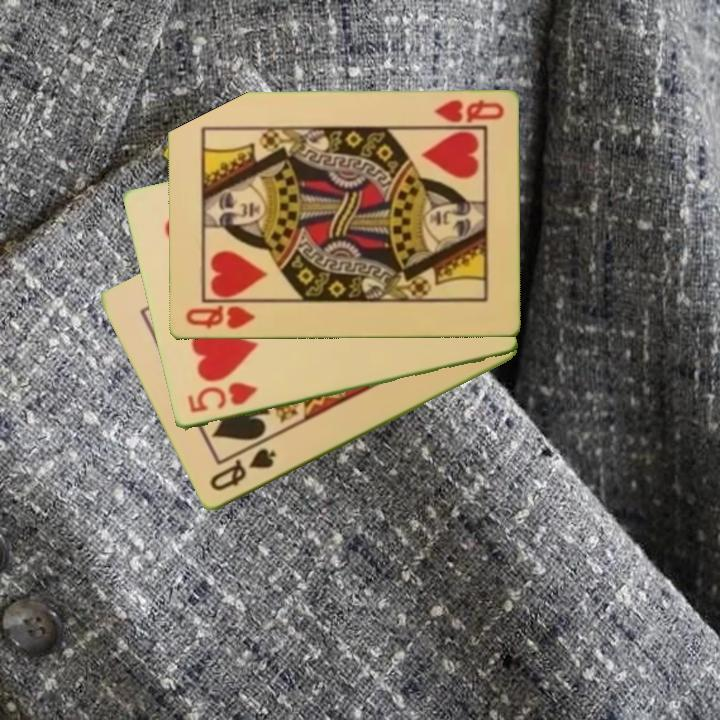5h: (183, 379, 260, 417)
Qh: (181, 302, 257, 332), (430, 96, 506, 126)
Qs: (206, 445, 279, 495)
